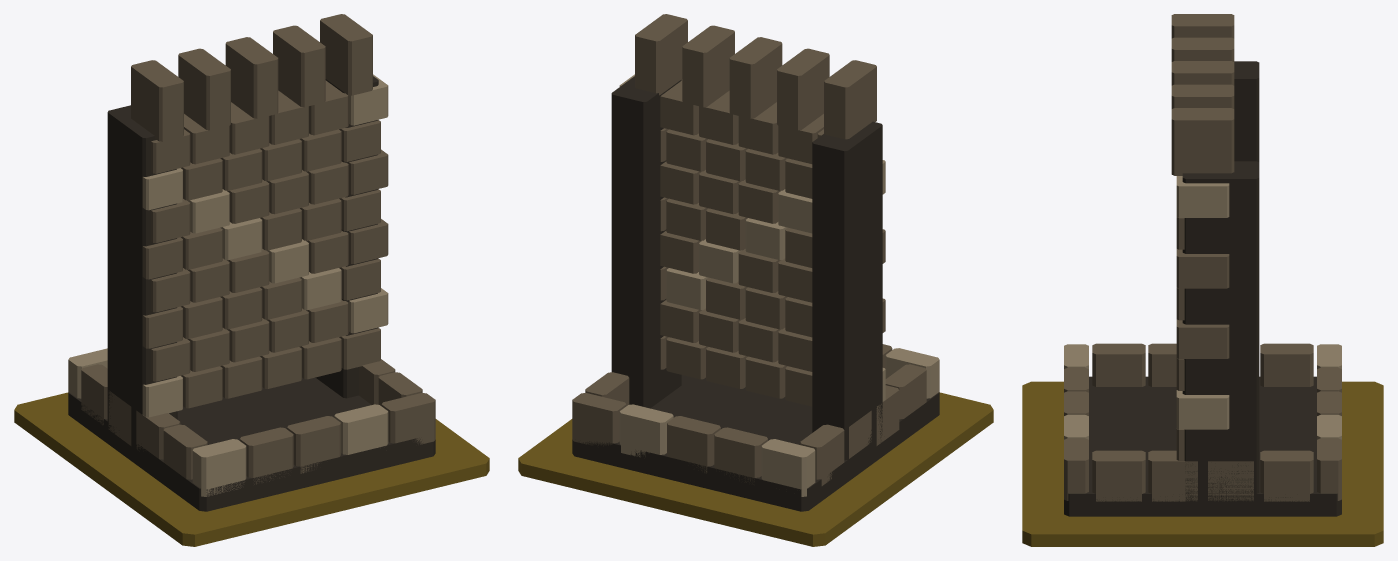
Rendered from stonewall_t5.glb.
3 views of the same model, side by side, from view 1: azimuth 30°, elevation 25°; view 2: azimuth 150°, elevation 25°; view 3: azimuth 270°, elevation 25° (orthographic).
Parts seen in each view (by area): view 1: MMR | stonewall | T05 Architecture.001, MMR | stonewall | Tier 05 Ground.001; view 2: MMR | stonewall | T05 Architecture.001, MMR | stonewall | Tier 05 Ground.001; view 3: MMR | stonewall | T05 Architecture.001, MMR | stonewall | Tier 05 Ground.001.
Boxes of the visible parts, x1=… form: MMR | stonewall | T05 Architecture.001: x1=68, y1=14, x2=435, y2=511; MMR | stonewall | Tier 05 Ground.001: x1=14, y1=392, x2=489, y2=546; MMR | stonewall | T05 Architecture.001: x1=572, y1=14, x2=939, y2=511; MMR | stonewall | Tier 05 Ground.001: x1=518, y1=392, x2=993, y2=546; MMR | stonewall | T05 Architecture.001: x1=1064, y1=14, x2=1341, y2=516; MMR | stonewall | Tier 05 Ground.001: x1=1022, y1=381, x2=1383, y2=546.
Bounding box in the file's own units: 1.3 × 1.6 × 1.3.
Materials: 1 (1 with a texture image).
